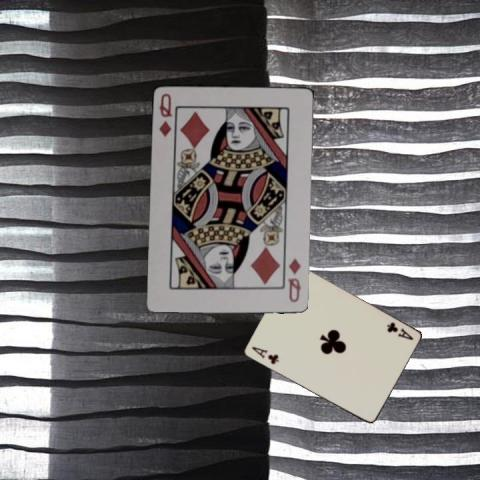Ac: (383, 320, 415, 342), (249, 343, 279, 366)
Qd: (284, 255, 302, 304), (156, 90, 174, 137)
